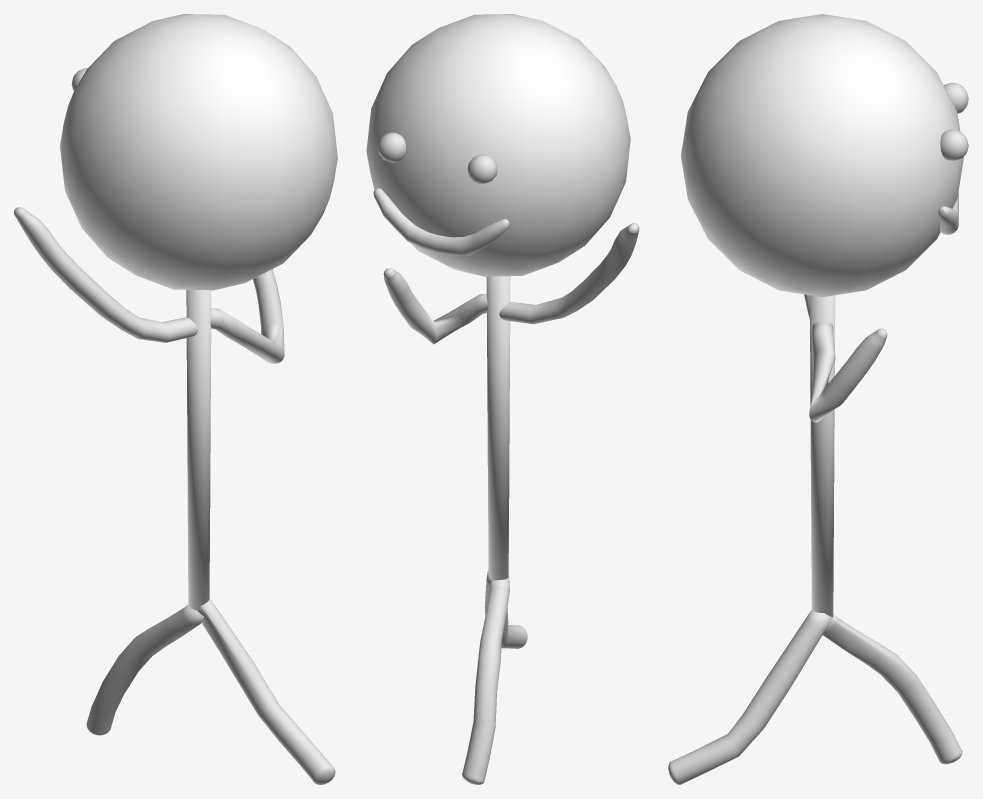
Rendered from Player Jump.fbx.
3 renders of one model, left to right at view 1: azimuth 30°, elevation 25°; view 2: azimuth 150°, elevation 25°; view 3: azimuth 270°, elevation 25°, orthographic. The views are drawn at different scales.
Parts seen in each view (by area): view 1: Icosphere.006, Icosphere.007, Icosphere.008, Icosphere.005; view 2: Icosphere.006, Icosphere.005, Icosphere.008, Icosphere.007, Icosphere.009; view 3: Icosphere.006, Icosphere.007, Icosphere.005, Icosphere.008, Icosphere.009.
Part boxes in pixels (x1,y1,x2,y2): Icosphere.006: (60, 14, 337, 290); Icosphere.007: (86, 598, 335, 784); Icosphere.008: (14, 207, 284, 363); Icosphere.005: (186, 289, 211, 610); Icosphere.006: (366, 14, 630, 276); Icosphere.005: (486, 276, 510, 580); Icosphere.008: (383, 223, 639, 344); Icosphere.007: (462, 570, 527, 784); Icosphere.009: (373, 132, 509, 255); Icosphere.006: (681, 14, 963, 297); Icosphere.007: (668, 610, 962, 784); Icosphere.005: (809, 295, 835, 617); Icosphere.008: (804, 294, 887, 422); Icosphere.009: (938, 82, 968, 234).
Size of the model in its own units: 665 by 1651 by 596.
Materials: 2 (1 with a texture image).
